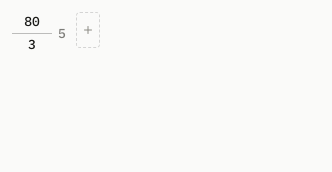
Alt+click cycles the unit › cycles forward and writes the raw and the unit in one call
Press the mouse on the button "80" at coordinates (32, 22), box [12,12,52,32]
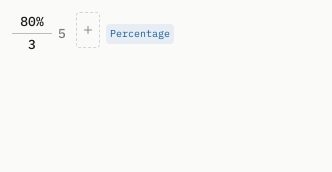
Check: the text "Percentage" is shown, box [106,24,174,44]
